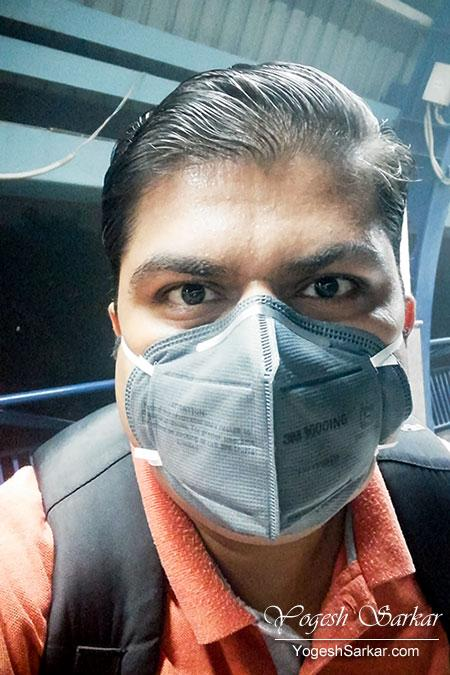Wearing Mask: (52, 26, 444, 559)
